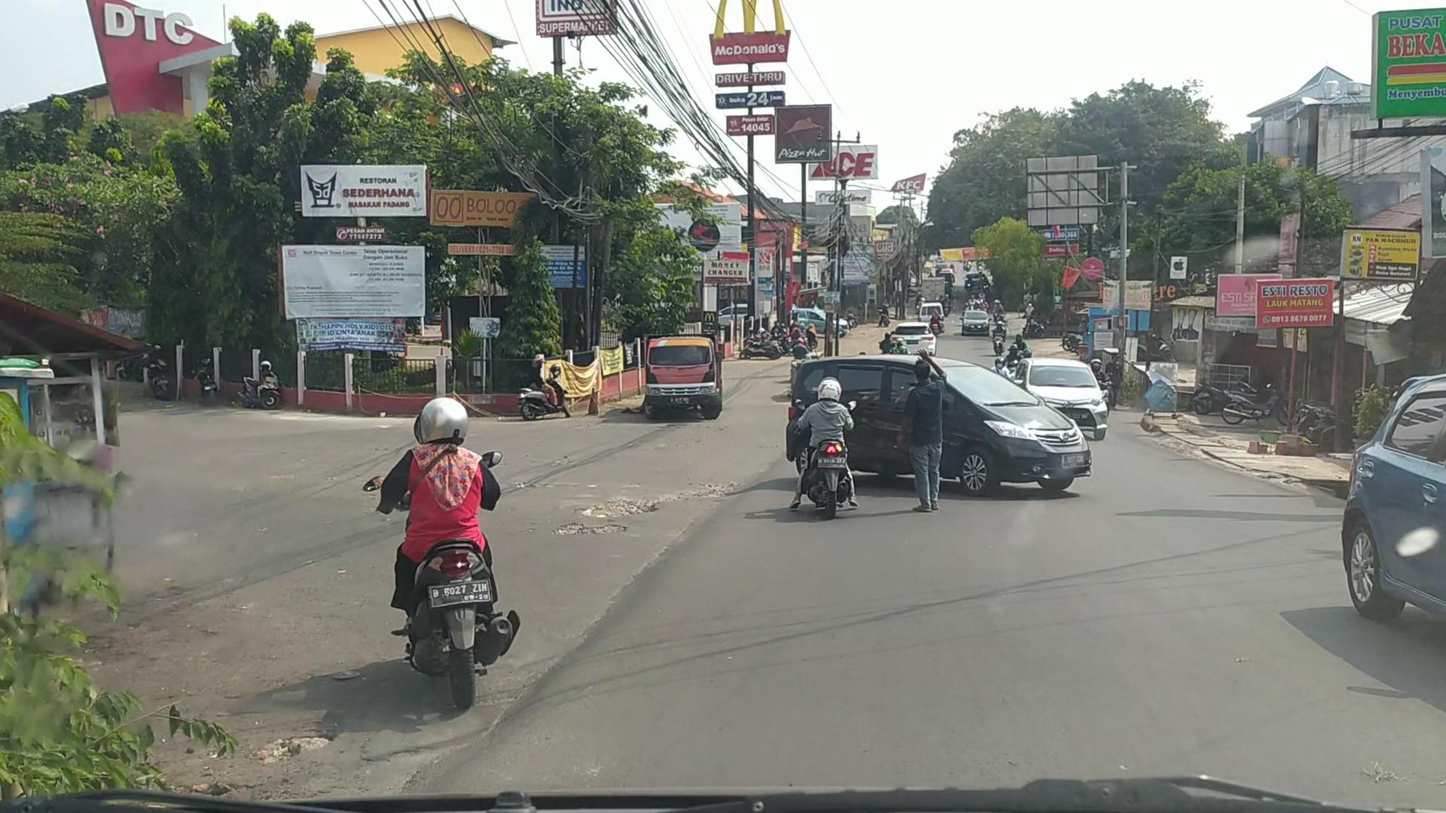pothole: (578, 480, 743, 519), (256, 732, 337, 764), (551, 522, 628, 536)
